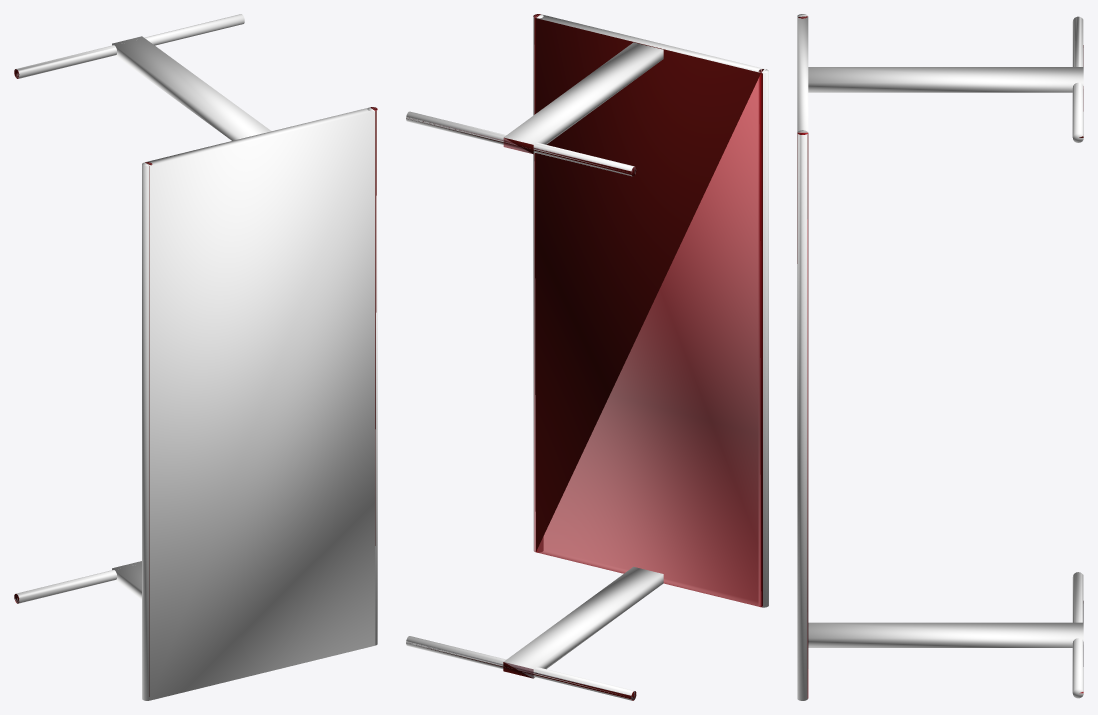
3 renders of one model, left to right at view 1: azimuth 30°, elevation 25°; view 2: azimuth 150°, elevation 25°; view 3: azimuth 270°, elevation 25°, orthographic. The views are drawn at different scales.
Bounding box in the file's own units: 0.4359 × 0.95 × 0.4361.
